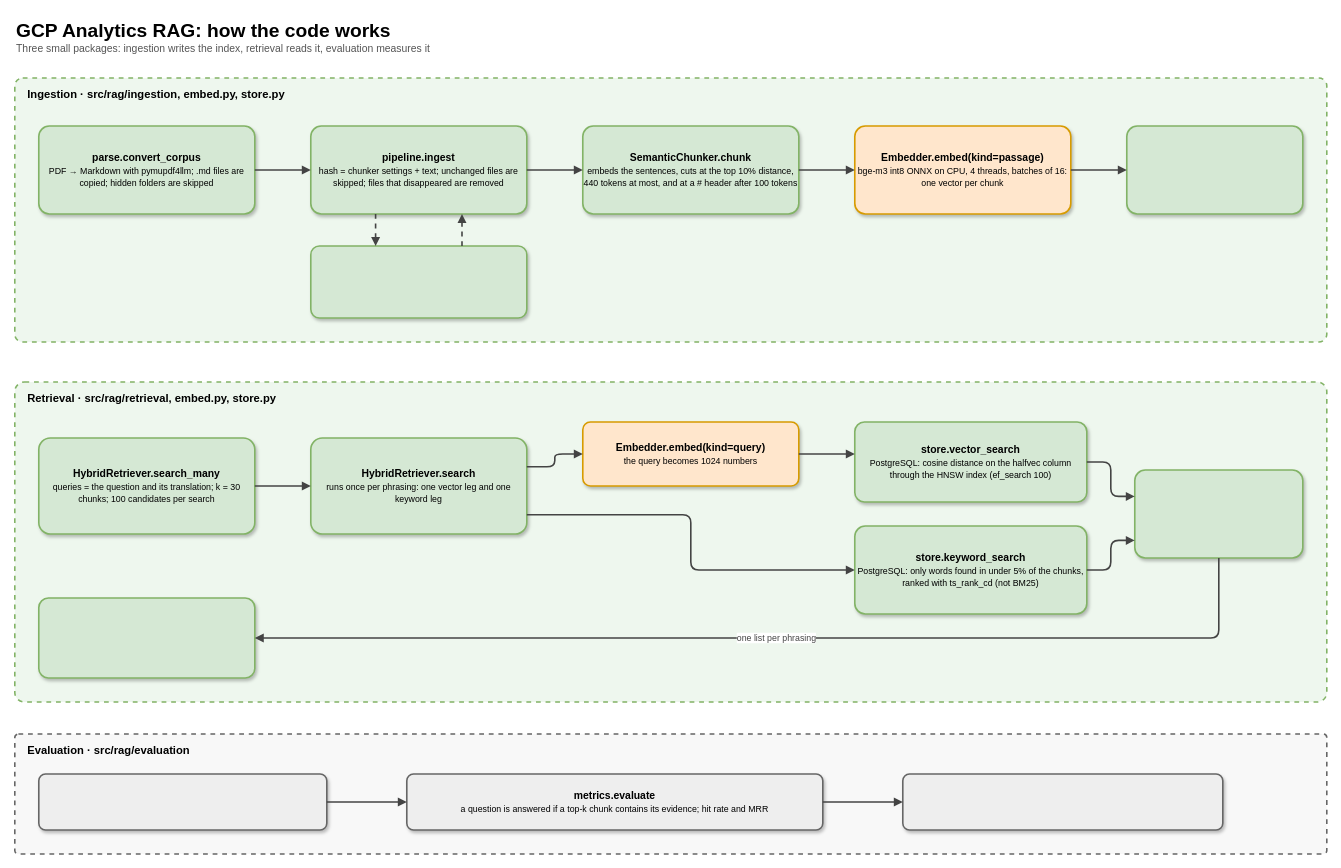
Some shapes in this 1341 by 868 pixel diagram are drawn without their labels. The centre of each missing label's shape, as x and y in pixels:
"fusion.rrf again merges the lists of the phrasings and keeps the best 30" belongs at pixel 147 639.
"fusion.rrf score = 1 / (60 + position), summed over the lists" belongs at pixel 1219 515.
"golden.load_golden questions and the passages that answer them" belongs at pixel 183 803.
"report.run runs a set of questions and prints the table" belongs at pixel 1063 803.
"store.get_hashes / delete_documents what is already indexed, and what is gone" belongs at pixel 419 283.
"store.replace_document swaps all the chunks of one file in one transaction" belongs at pixel 1215 171.
